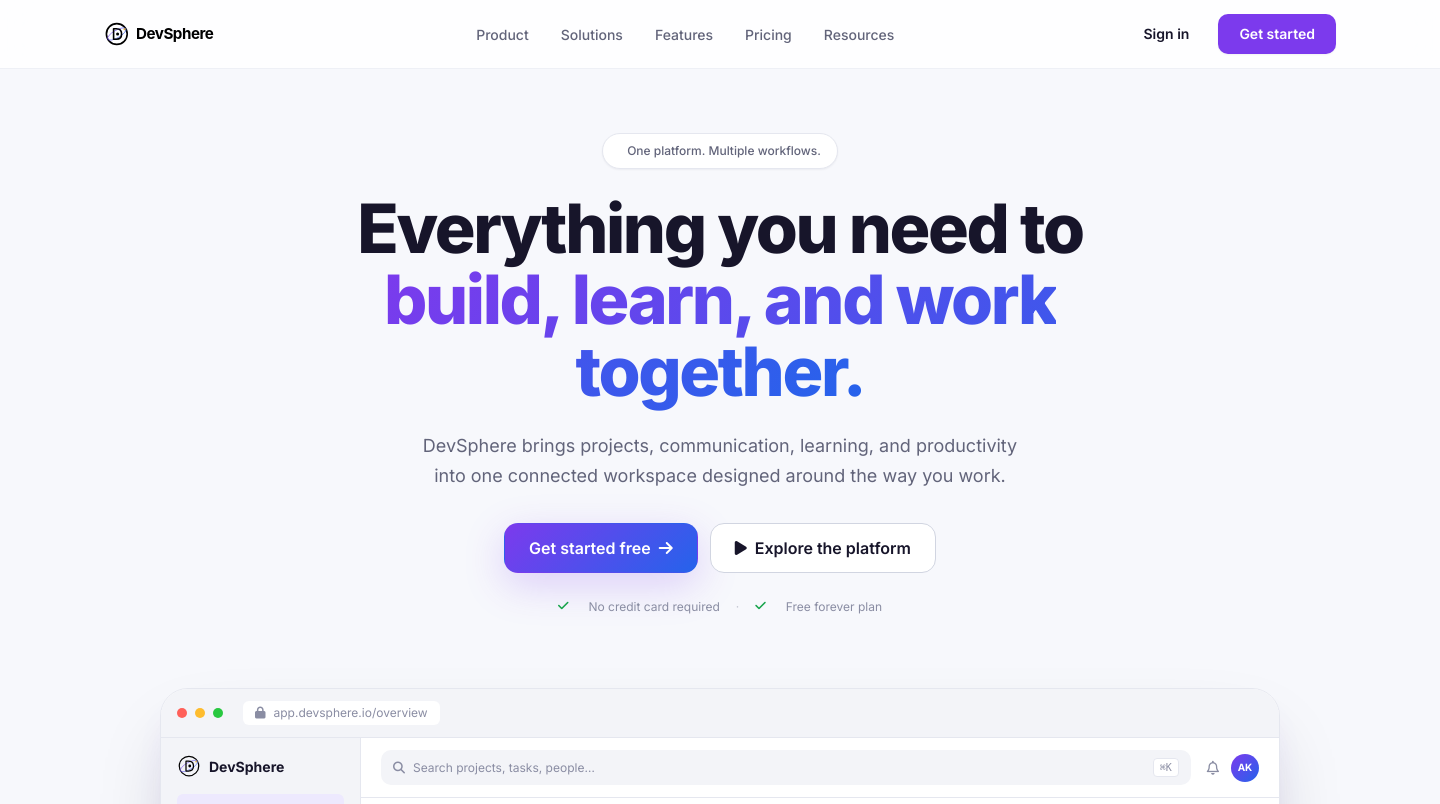
Scenario: public app entry › shows the landing page first and lets a visitor enter and leave authentication
This screenshot has width=1440, height=804.
Click the link to "pages/signup.html".
click(1277, 34)  # box [1218, 14, 1336, 54]
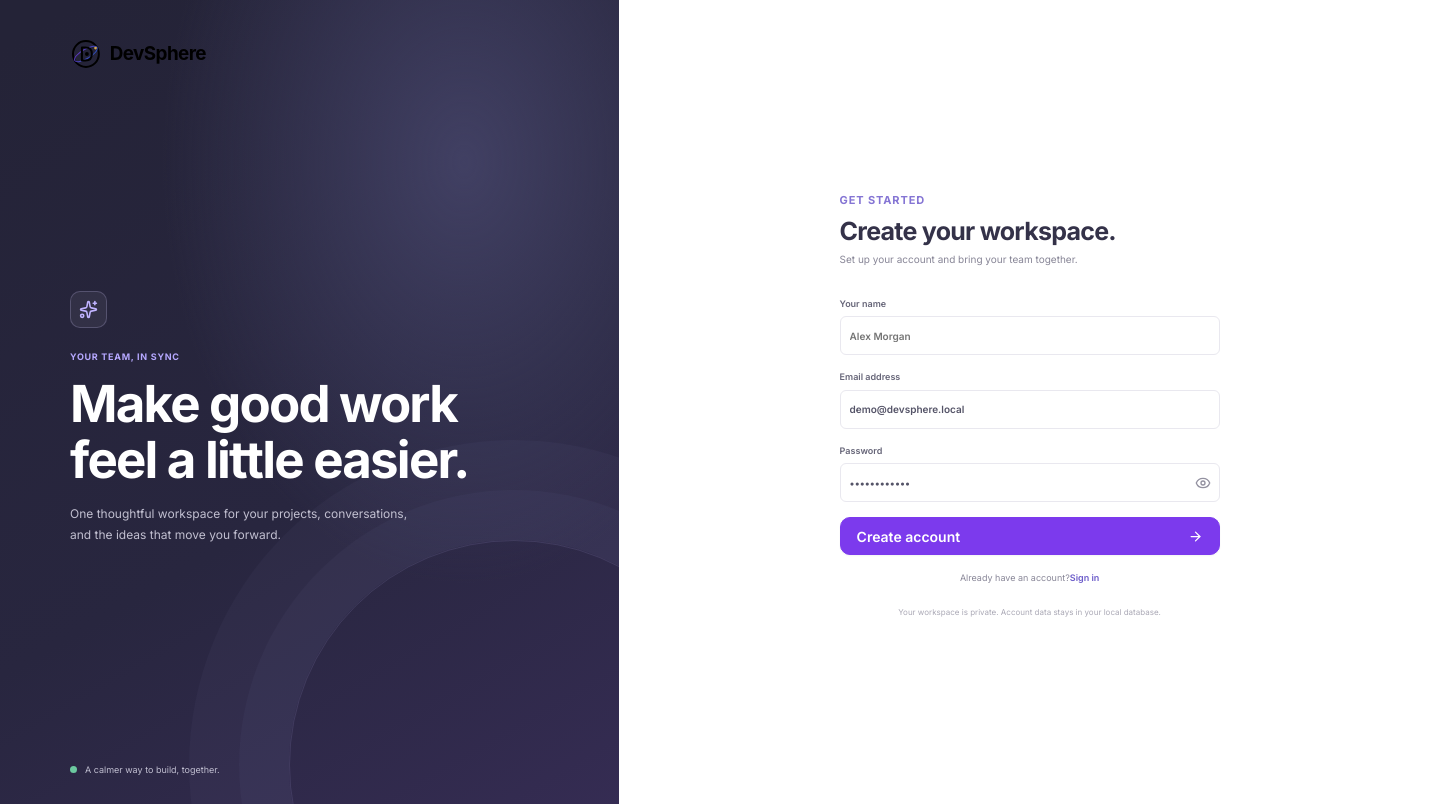
Check: the heading "Create your workspace." is shown, box [840, 216, 1116, 246]
Click the button with class "auth-brand".
click(160, 54)  # box [70, 34, 549, 74]
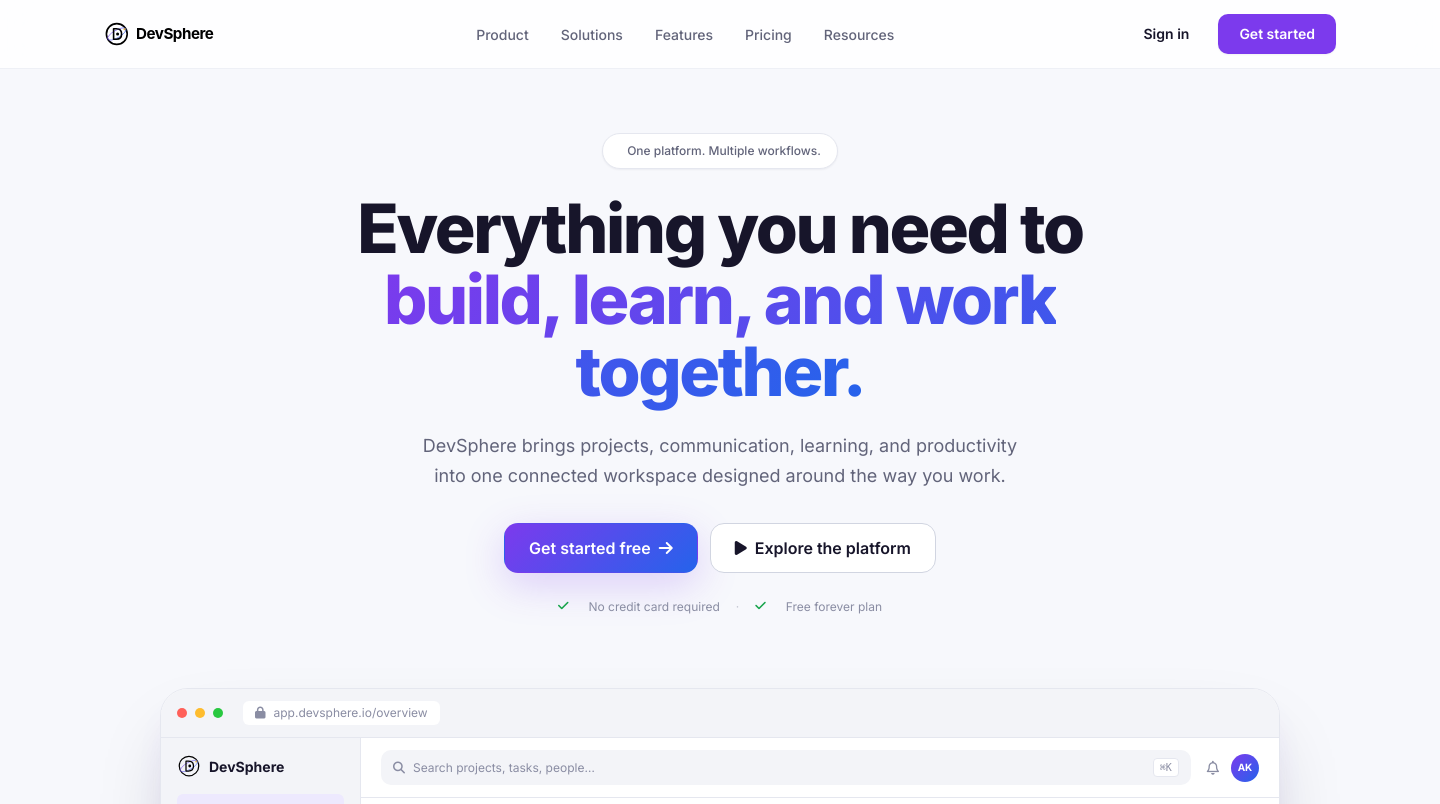
Check: the heading with id "hero-headline" shows "Everything you need to build, learn, and work together", box [357, 187, 1083, 412]
